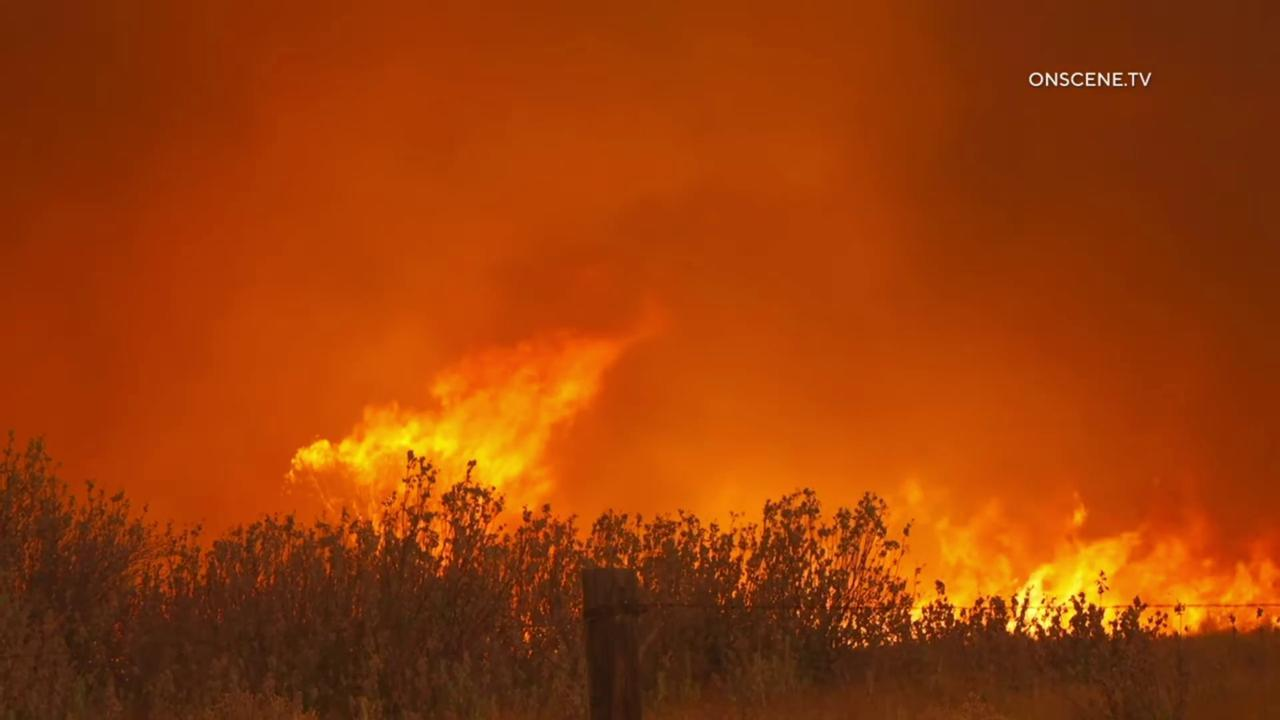fire: (261, 324, 654, 576), (853, 479, 1280, 642)
smoke: (0, 0, 1280, 651)
